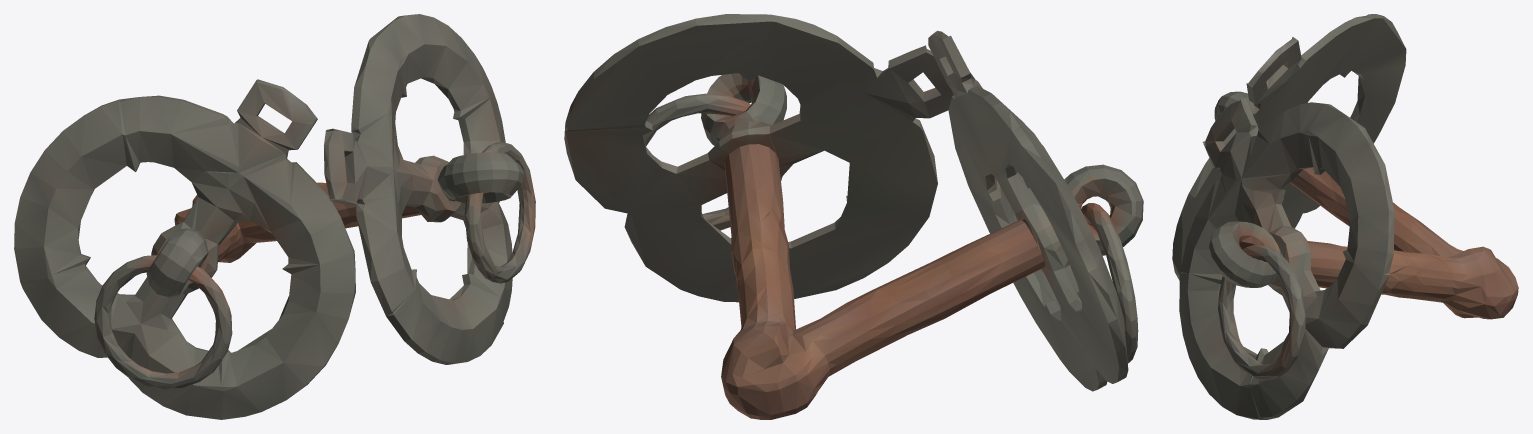
File: bronze_bit_4e6b72a2.glb
3 renders of one model, left to right at view 1: azimuth 30°, elevation 25°; view 2: azimuth 150°, elevation 25°; view 3: azimuth 270°, elevation 25°, orthographic. The views are drawn at different scales.
Visible parts, largest first — view 1: SM_24TR0007_low_Material #25_0; view 2: SM_24TR0007_low_Material #25_0; view 3: SM_24TR0007_low_Material #25_0.
Part boxes in pixels (x1,y1,x2,y2): SM_24TR0007_low_Material #25_0: [14, 14, 535, 419]; SM_24TR0007_low_Material #25_0: [564, 14, 1143, 419]; SM_24TR0007_low_Material #25_0: [1172, 14, 1518, 419].
Size of the model in its own units: 0.2098 by 0.1246 by 0.1368.
